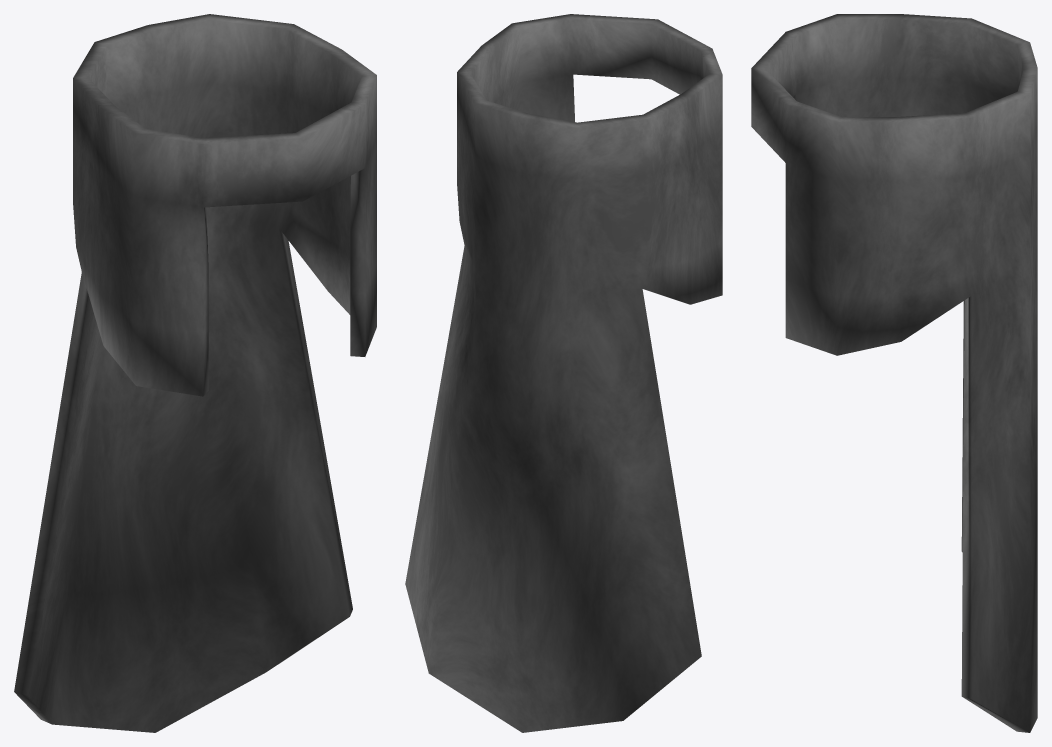
File: Goddess hair.fbx
3 renders of one model, left to right at view 1: azimuth 30°, elevation 25°; view 2: azimuth 150°, elevation 25°; view 3: azimuth 270°, elevation 25°, orthographic. The views are drawn at different scales.
Parts seen in each view (by area): view 1: Plane.001; view 2: Plane.001; view 3: Plane.001.
Part boxes in pixels (x1,y1,x2,y2): Plane.001: (14, 14, 376, 732); Plane.001: (405, 14, 722, 732); Plane.001: (751, 14, 1037, 732).
Size of the model in its own units: 26.05 by 51.58 by 20.62.
